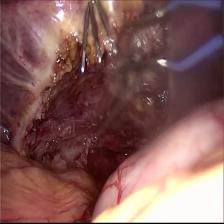Bipolar: (118, 0, 224, 81)
